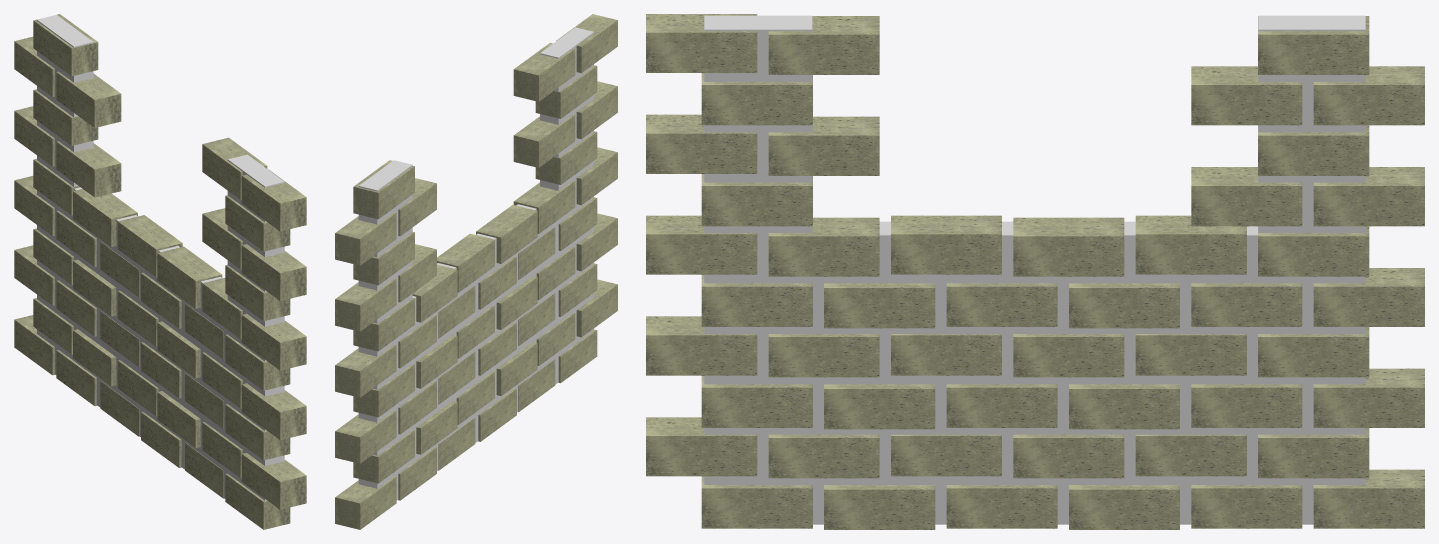
File: BrickWallShortWithLargeOpening.glb
The picture shows the model from 3 angles, left to right: view 1: azimuth 30°, elevation 25°; view 2: azimuth 150°, elevation 25°; view 3: azimuth 270°, elevation 25°; orthographic projection. The views are drawn at different scales.
Visible parts, largest first — view 1: BrickWallShortWithLargeBricksOpening; view 2: BrickWallShortWithLargeBricksOpening; view 3: BrickWallShortWithLargeBricksOpening.
Boxes of the visible parts, x1,y1,x2,y2 form: BrickWallShortWithLargeBricksOpening: (14, 14, 306, 529); BrickWallShortWithLargeBricksOpening: (335, 14, 617, 529); BrickWallShortWithLargeBricksOpening: (646, 14, 1424, 529).
Size of the model in its own units: 0.4677 by 4.92 by 7.
Materials: 2 (1 with a texture image).
